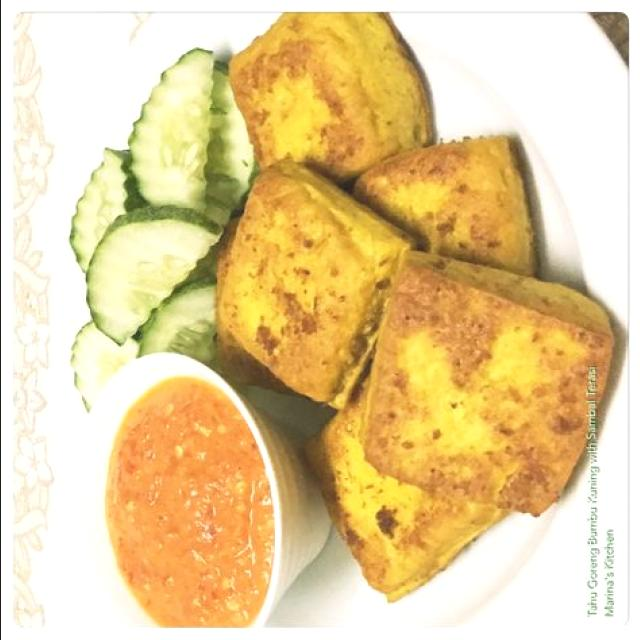tahu goreng: (362, 250, 614, 532), (213, 157, 428, 412), (230, 14, 439, 184)
